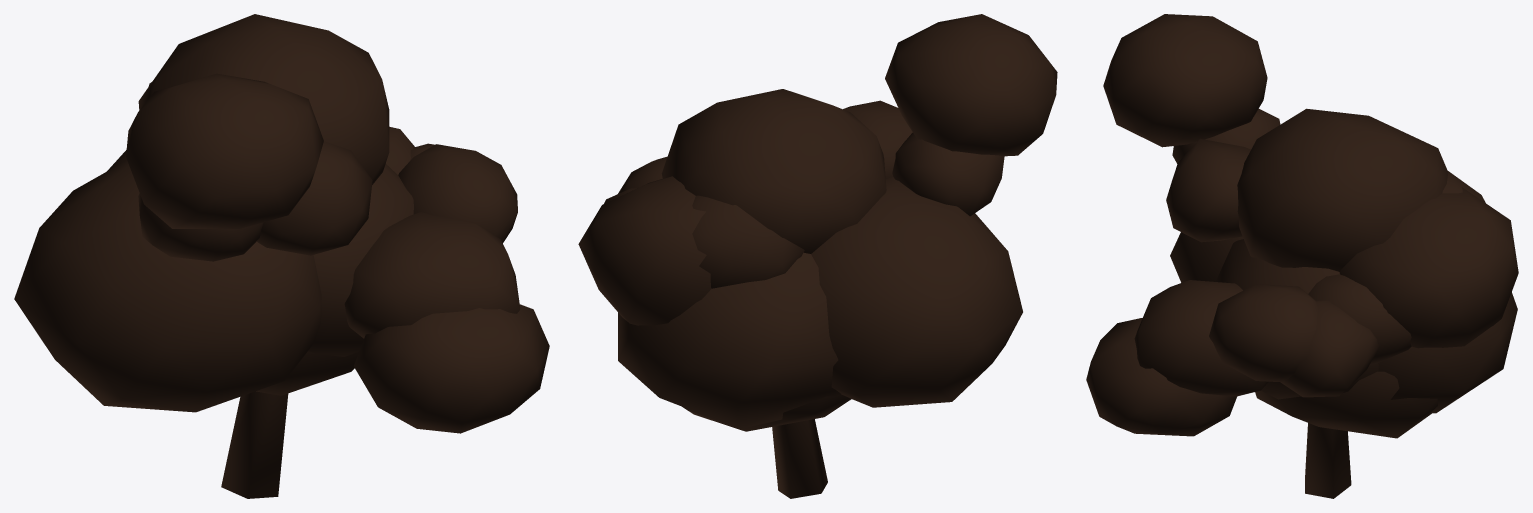
The model's file is bougainvillea.glb.
The picture shows the model from 3 angles, left to right: view 1: azimuth 30°, elevation 25°; view 2: azimuth 150°, elevation 25°; view 3: azimuth 270°, elevation 25°; orthographic projection. The views are drawn at different scales.
Parts seen in each view (by area): view 1: bougainvillea_outline; view 2: bougainvillea_outline; view 3: bougainvillea_outline.
Boxes of the visible parts, x1=… form: bougainvillea_outline: x1=14, y1=14, x2=549, y2=498; bougainvillea_outline: x1=578, y1=14, x2=1057, y2=498; bougainvillea_outline: x1=1086, y1=14, x2=1518, y2=498.
Bounding box in the file's own units: 1.7 × 1.79 × 1.66.
